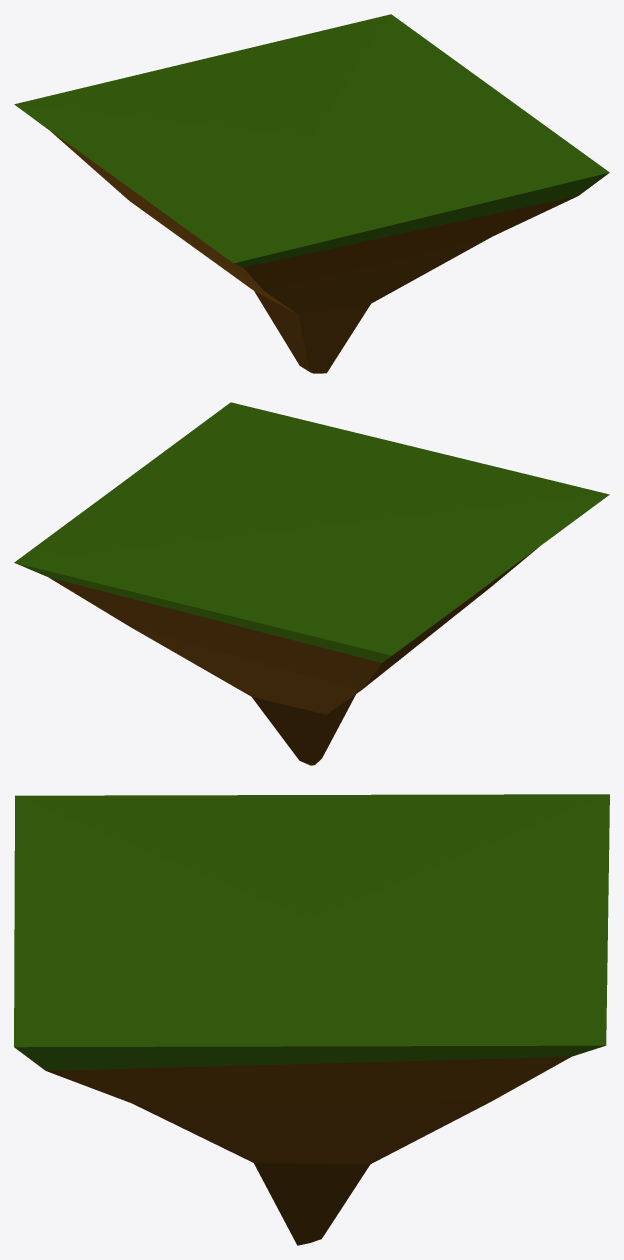
The model's file is Sky_Island๘_Square05.fbx.
The picture shows the model from 3 angles, top to bottom: view 1: azimuth 30°, elevation 25°; view 2: azimuth 150°, elevation 25°; view 3: azimuth 270°, elevation 25°; orthographic projection. The views are drawn at different scales.
Parts seen in each view (by area): view 1: Vert.002, Vert.001; view 2: Vert.002, Vert.001; view 3: Vert.002, Vert.001.
Boxes of the visible parts, <box> form: Vert.002: <box>14,14,609,267</box>; Vert.001: <box>51,132,577,373</box>; Vert.002: <box>14,402,609,662</box>; Vert.001: <box>49,547,538,765</box>; Vert.002: <box>14,794,609,1070</box>; Vert.001: <box>46,1056,571,1245</box>.
Size of the model in its own units: 395 by 236 by 395.
